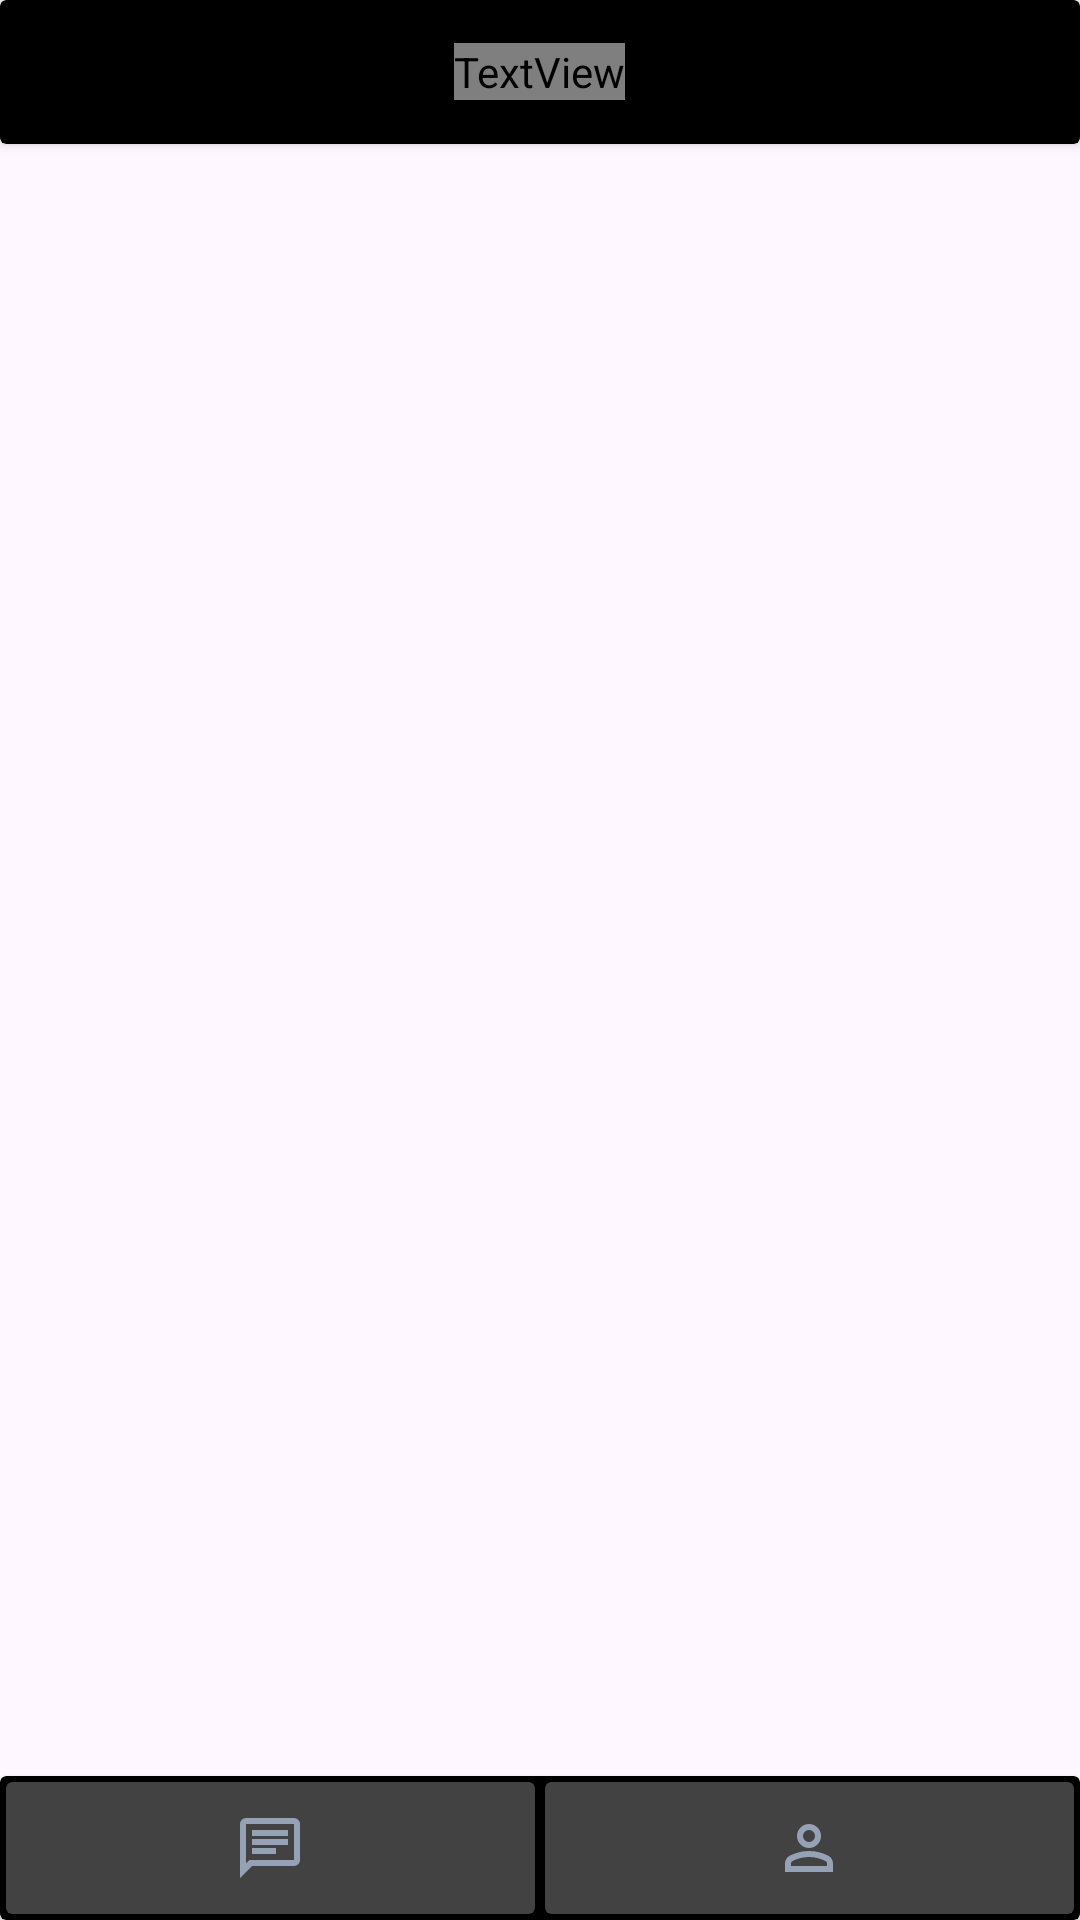

Named icons in this screenshot (1080x1920) and their centers, point (x, y):
chat: point (270, 1848)
user: point (809, 1848)
